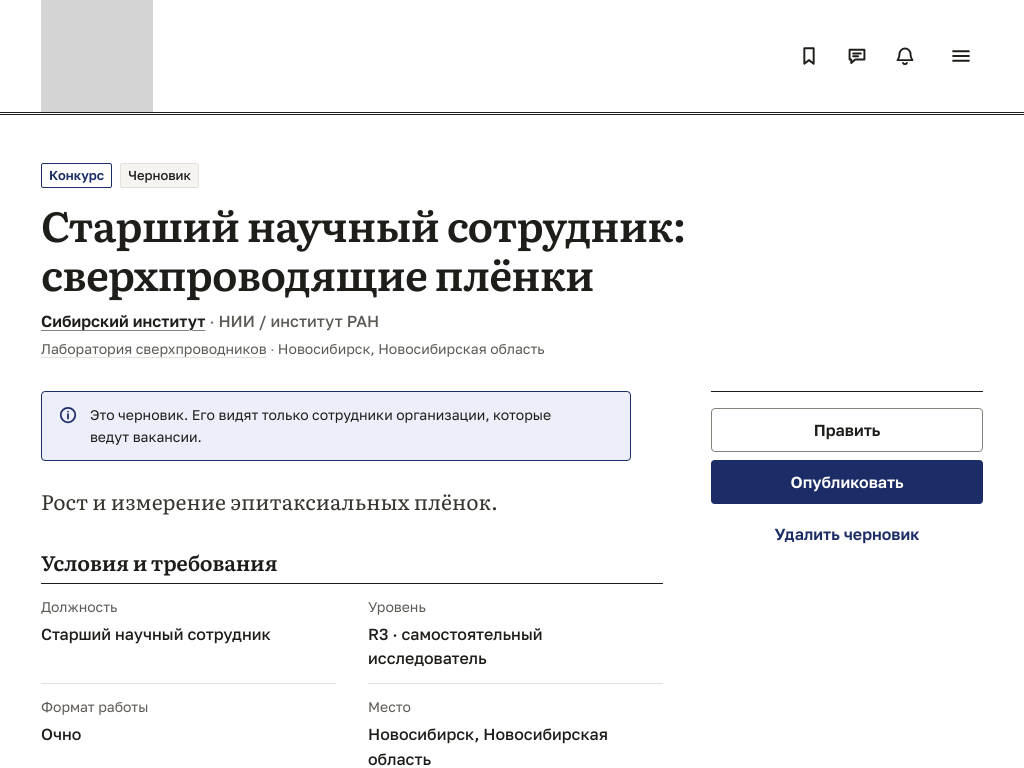
Test: managing a vacancy from its page › can be backed out of, and a failed deletion says so
Step 1. Click the button "Удалить черновик" → click(847, 534), box [711, 512, 983, 556]
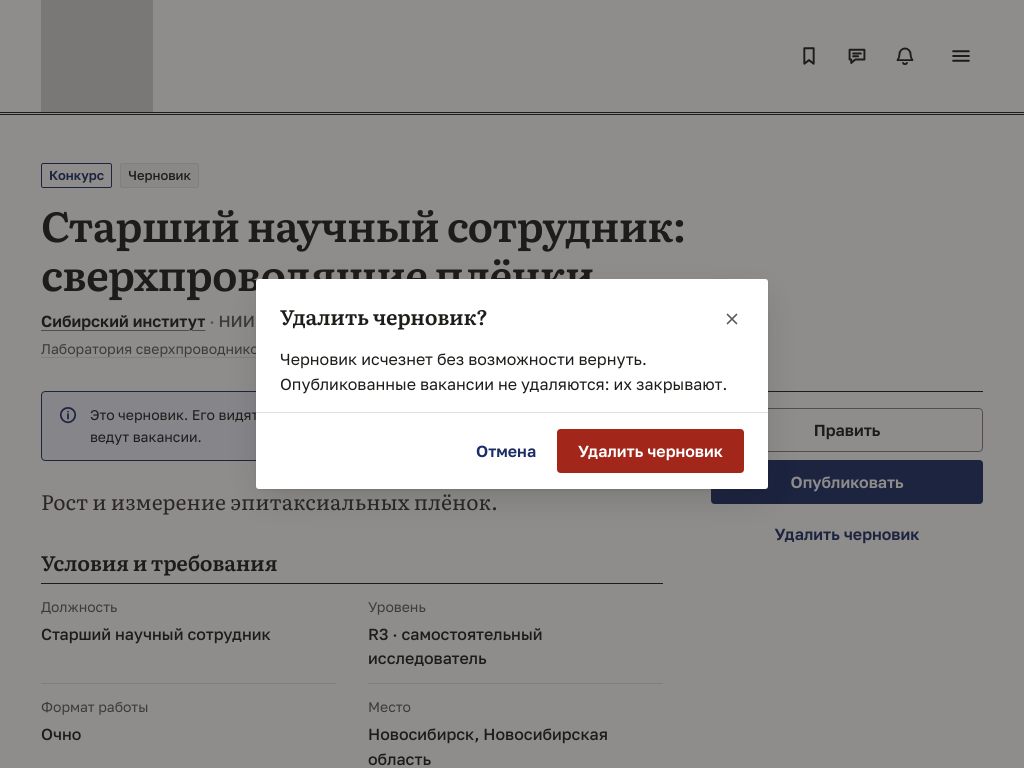
Step 2. Click the button "Отмена" → click(506, 451), box [463, 429, 549, 473]
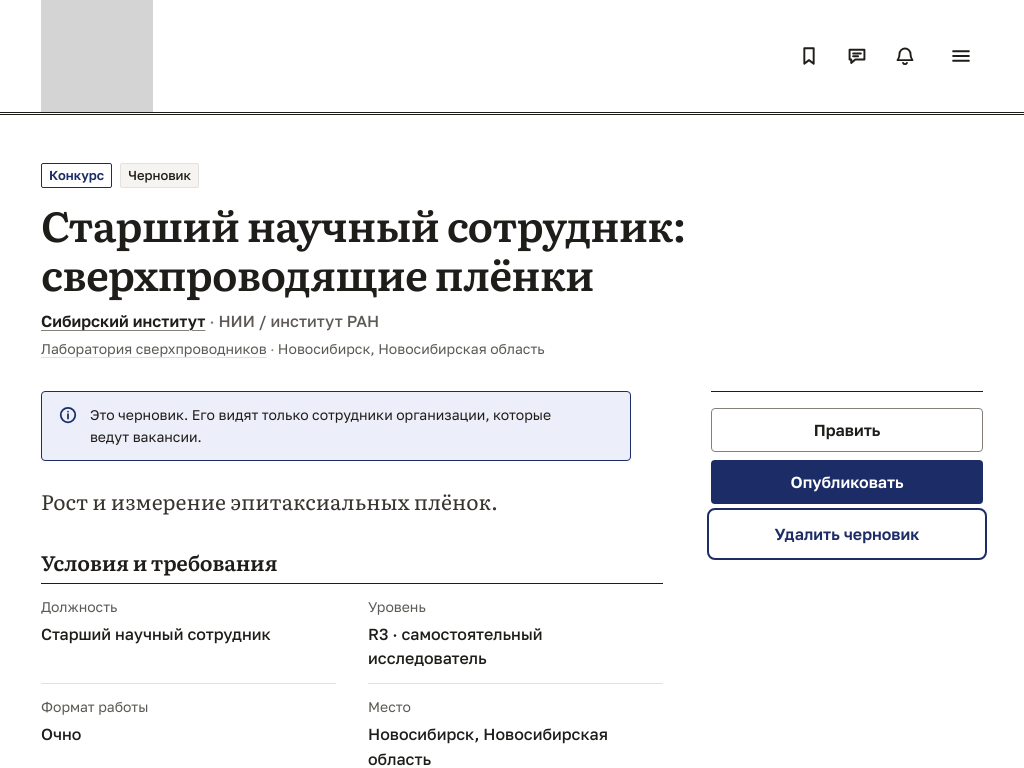
Expected: the dialog is gone
Step 3. Click the button "Удалить черновик" → click(847, 534), box [711, 512, 983, 556]
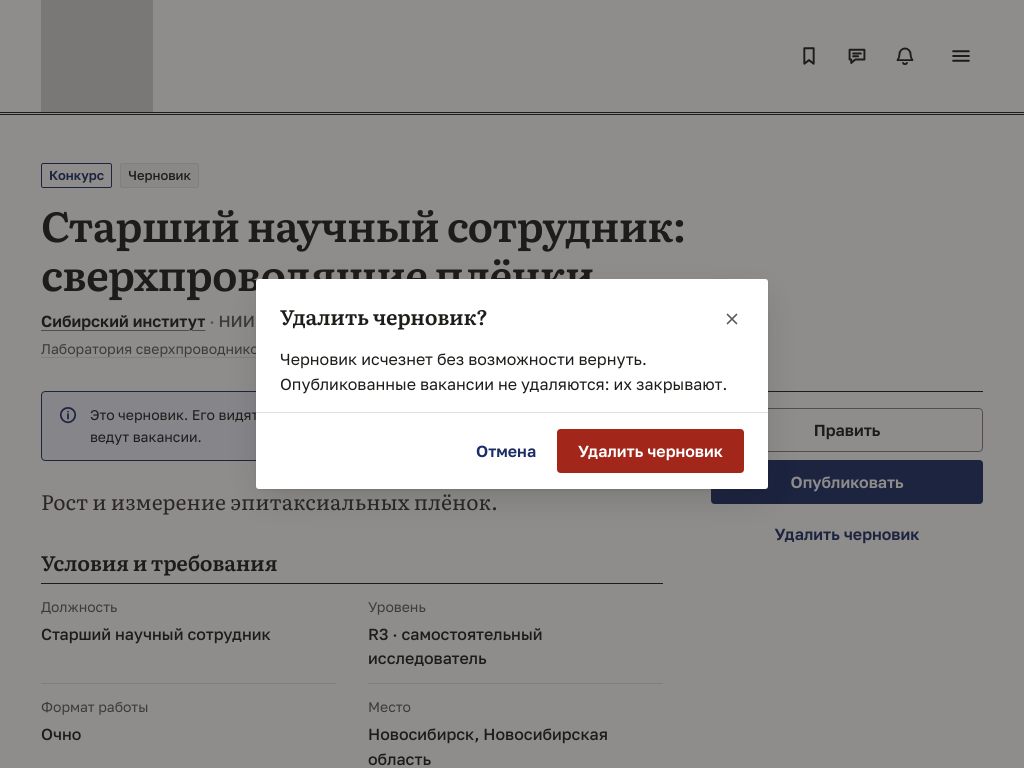
Step 4. Click the button "Удалить черновик" → click(651, 451), box [557, 429, 744, 473]
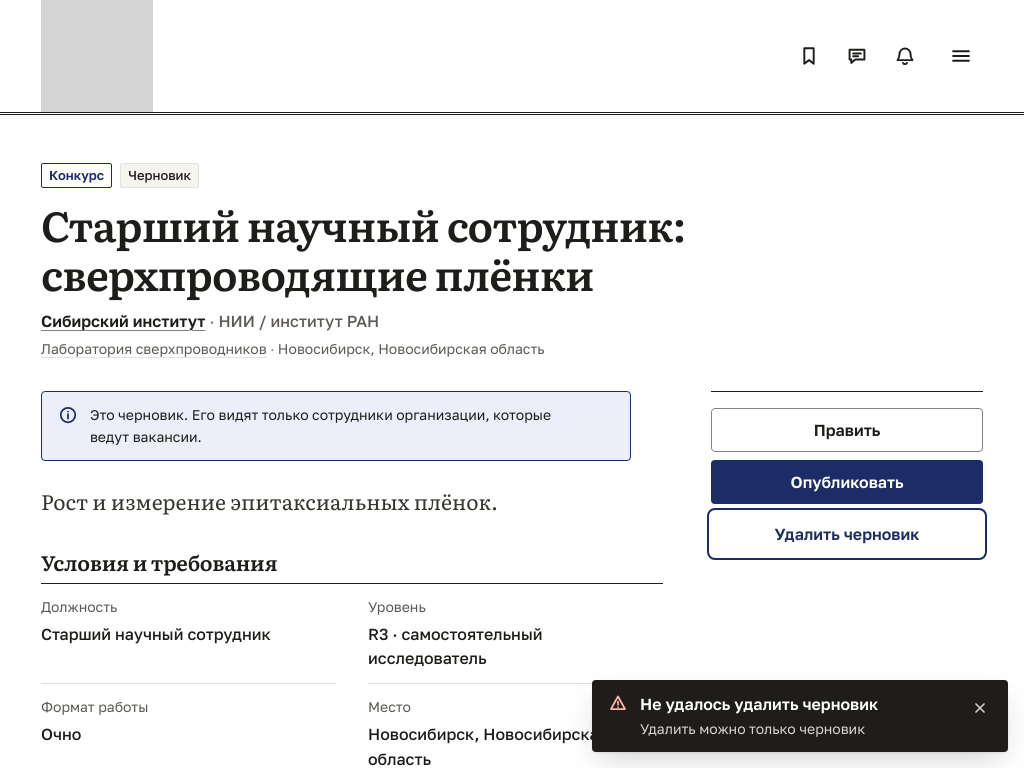
Expected: the text "Не удалось удалить черновик" is shown, [640, 694, 878, 714]
Expected: the dialog is gone
